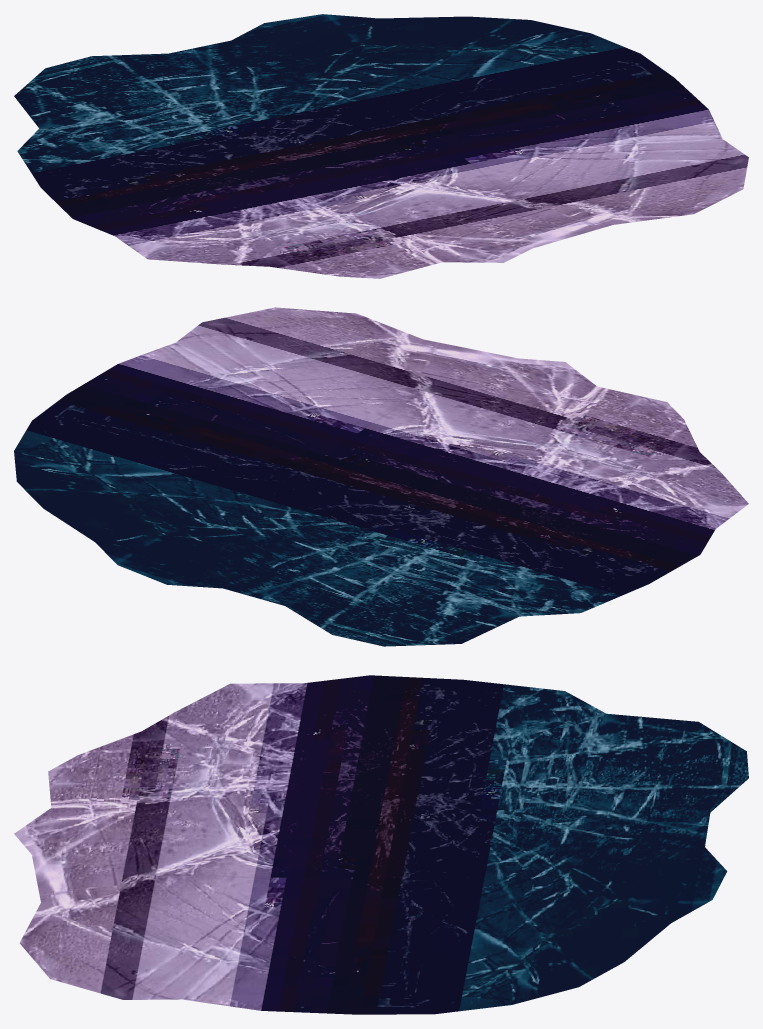
Rendered from puddle.fbx.
The picture shows the model from 3 angles, top to bottom: view 1: azimuth 30°, elevation 25°; view 2: azimuth 150°, elevation 25°; view 3: azimuth 270°, elevation 25°; orthographic projection. The views are drawn at different scales.
Parts seen in each view (by area): view 1: Puddle; view 2: Puddle; view 3: Puddle.
Part boxes in pixels (x1,y1,x2,y2): Puddle: (14,14,748,278); Puddle: (14,307,748,646); Puddle: (14,675,748,1014).
Bounding box in the file's own units: 333 × 0.4957 × 305.
